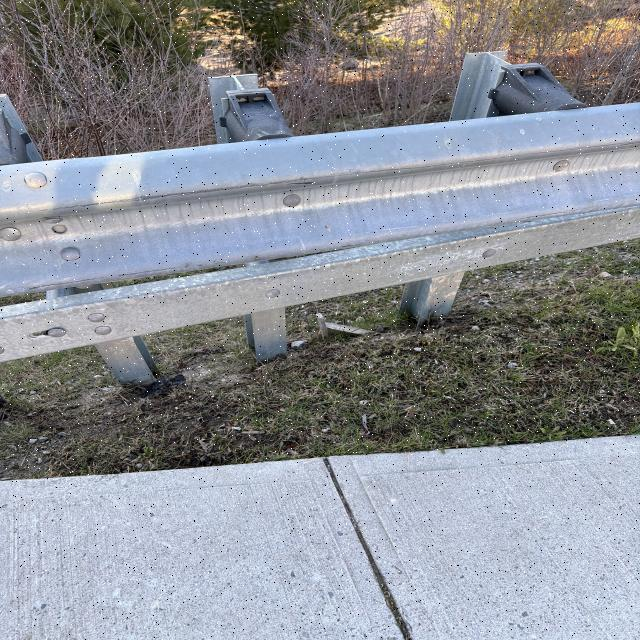Guard rail: (21, 109, 639, 347)
